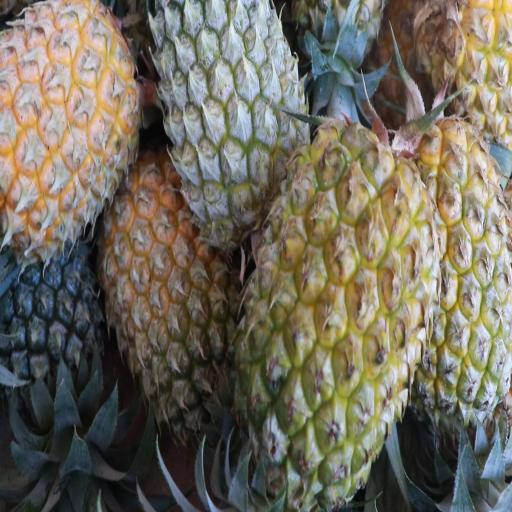------------------------------: (112, 168, 236, 432)
Pineapple - v8 v1: (234, 128, 435, 496), (395, 122, 512, 429), (0, 0, 138, 246)
